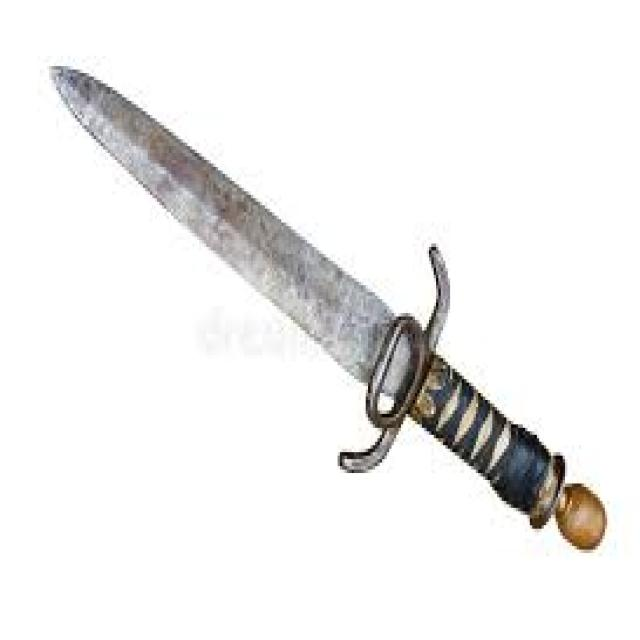Gun: (33, 50, 608, 566)
